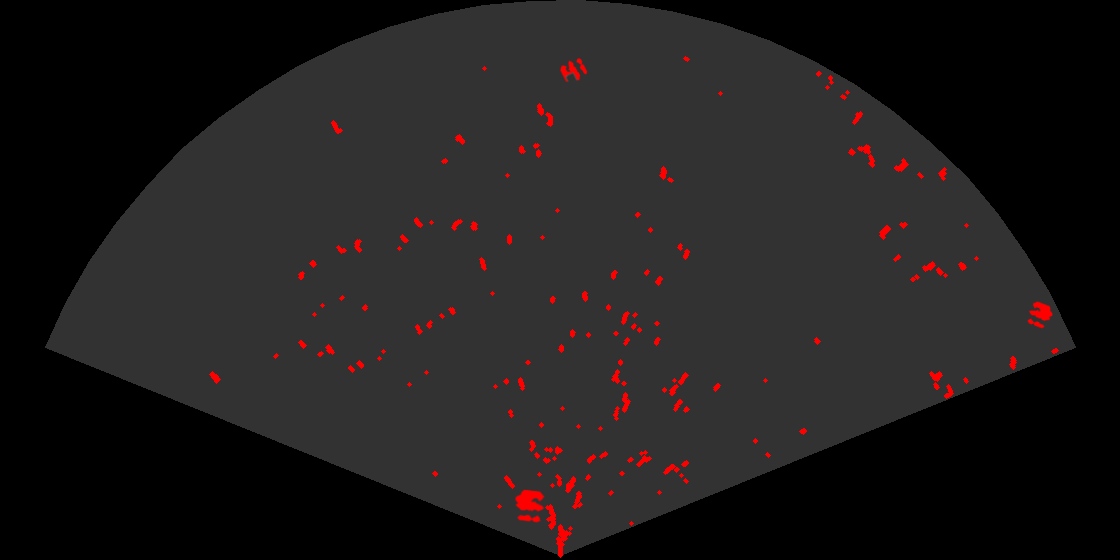ball: (513, 488, 546, 524), (1026, 300, 1054, 330), (559, 56, 589, 84)
